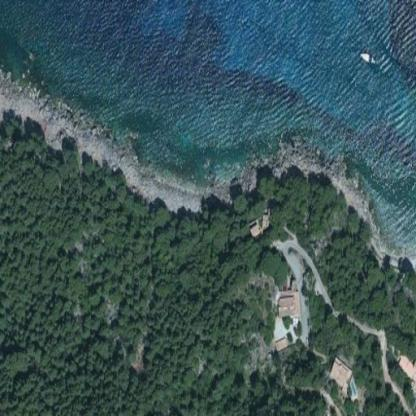ship: (354, 44, 381, 70)
